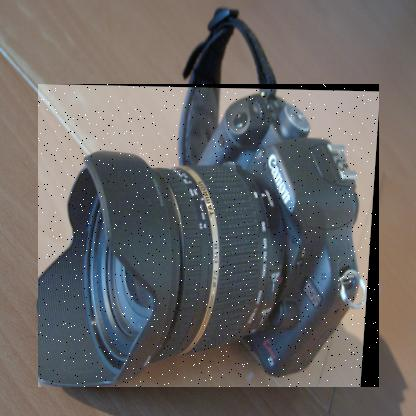Camera: (39, 86, 381, 390)
